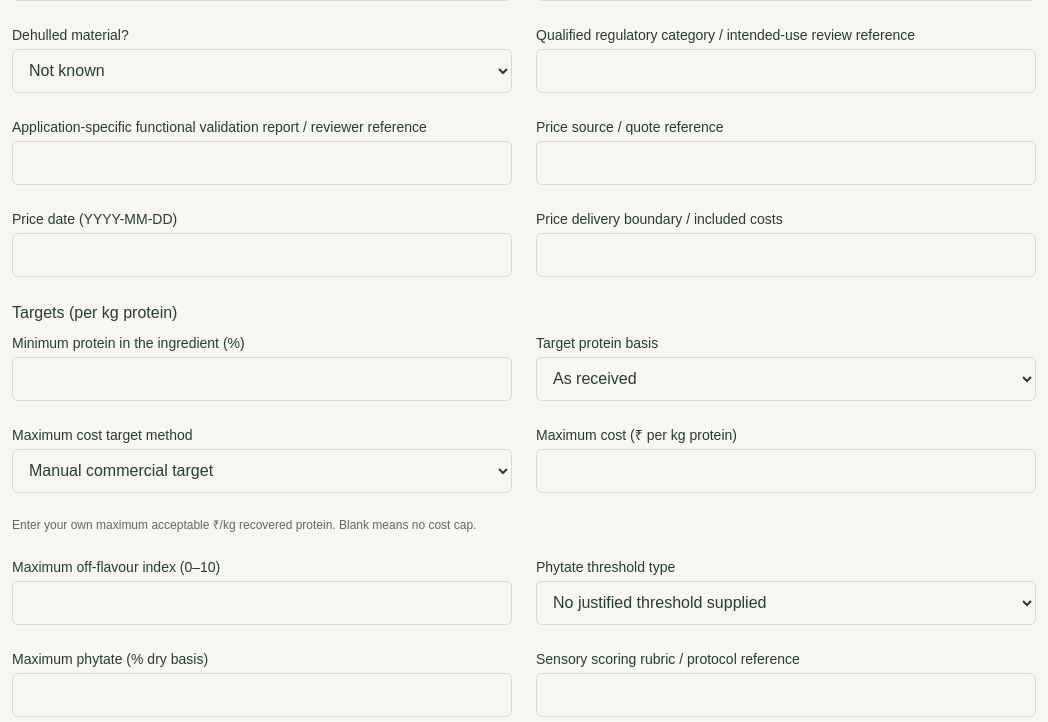
Test: shows plain form labels and all seven contaminant inputs without provenance badges
The image size is (1048, 722).
(page scrolled)
Type "40" into the field labelled "Minimum protein in the ingredient (%)" at [262, 379], box [12,357,512,401]
(page scrolled)
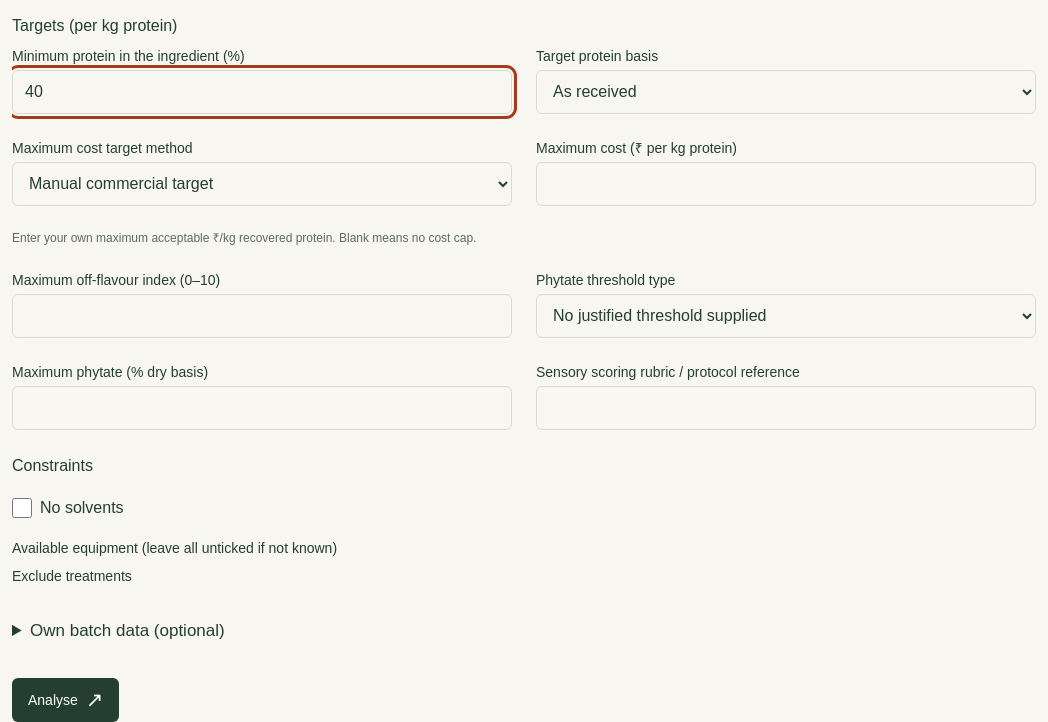
Click the heading "Own batch data (optional)" at [127, 630], box [30,621,225,640]
(page scrolled)
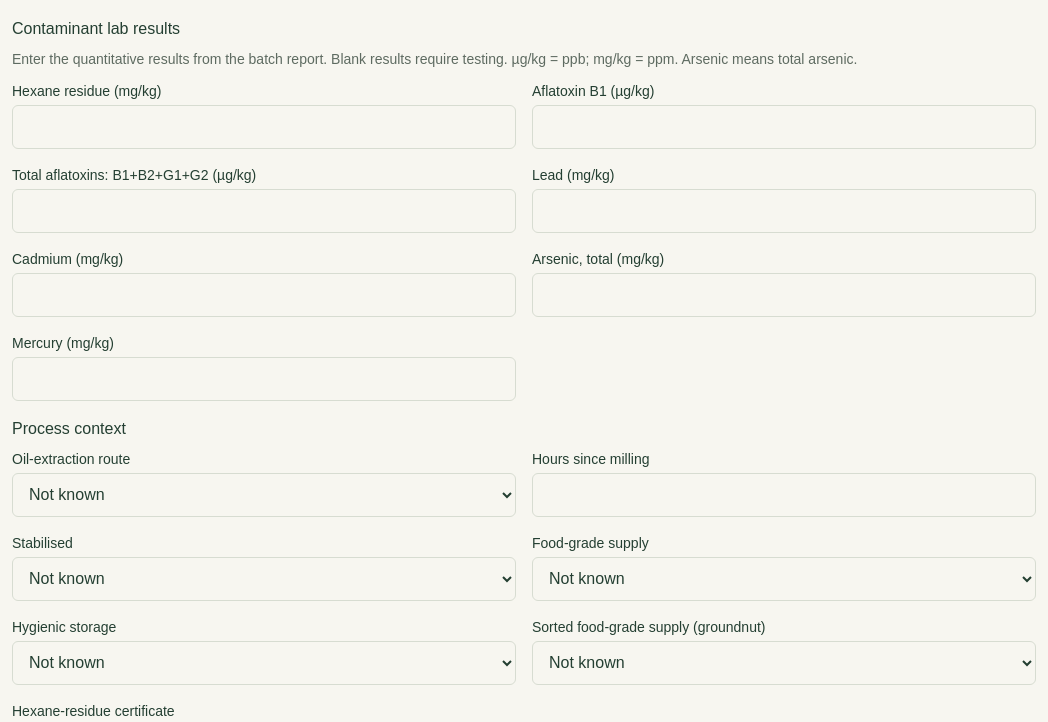
Check: the field labelled "Hexane residue (mg/kg)" is shown, box [12,105,516,149]
Check: the field labelled "Aflatoxin B1 (µg/kg)" is shown, box [532,105,1036,149]
Check: the field labelled "Total aflatoxins: B1+B2+G1+G2 (µg/kg)" is shown, box [12,189,516,233]
